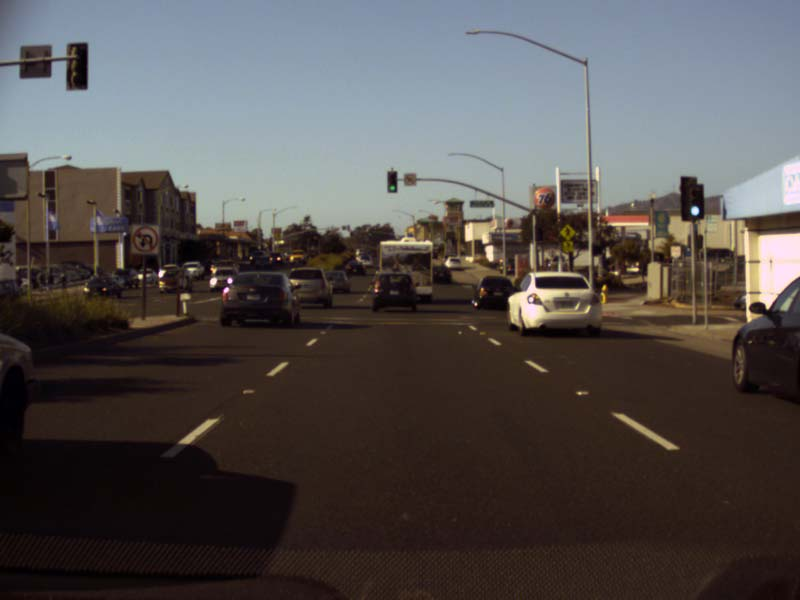Green: (684, 184, 703, 220), (387, 172, 397, 191)
